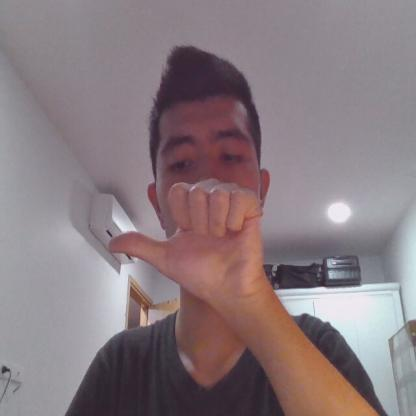right: (110, 178, 266, 296)
